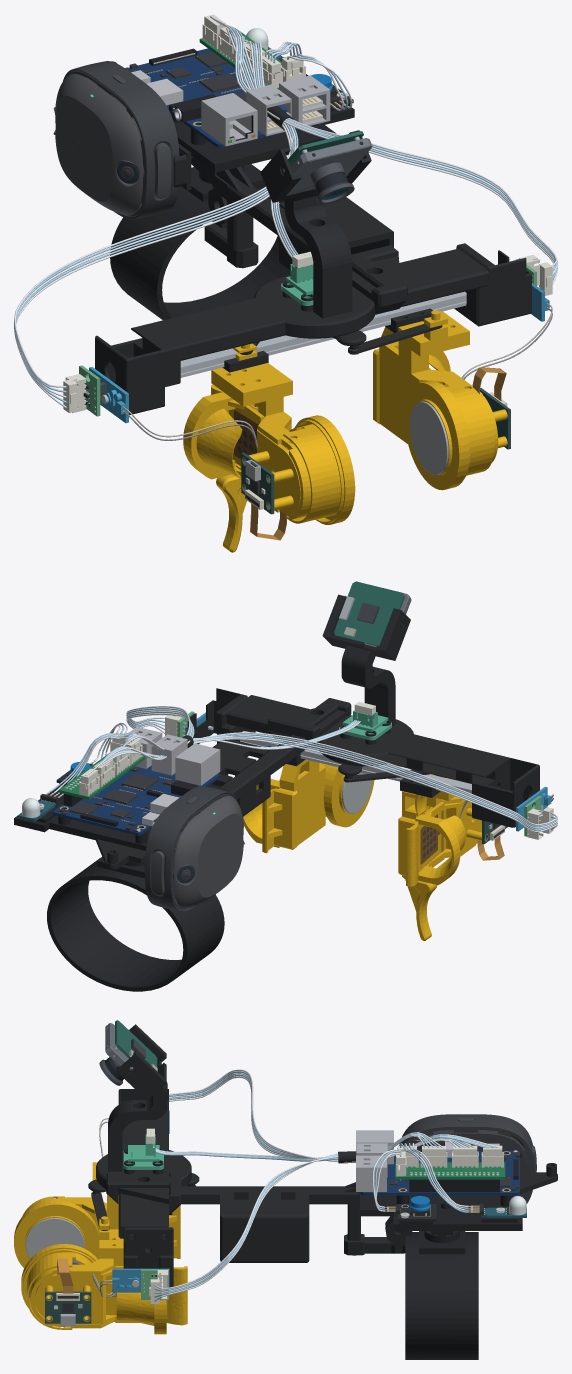
File: aetherock-parallel.glb
The picture shows the model from 3 angles, top to bottom: view 1: azimuth 30°, elevation 25°; view 2: azimuth 150°, elevation 25°; view 3: azimuth 270°, elevation 25°; orthographic projection. The views are drawn at different scales.
Parts seen in each view (by area): view 1: Parallel Gripper Frame, VIVE Ultimate Tracker, Orange Pi 4 Pro Wristward Ports, Forearm Support, Upper Arm Strap, Hikrobot Camera Mount, Right Tactile Back Cover, Right Jaw and Trigger, Left Jaw and Trigger, Right Force ADC XH2.54 Ribbon Cable, Parallel Gripper Side Cover, Hikrobot MV CB060 Camera (+21 smaller); view 2: Upper Arm Strap, Parallel Gripper Frame, VIVE Ultimate Tracker, Orange Pi 4 Pro Wristward Ports, Forearm Support, Right Tactile Back Cover, Hikrobot Camera Mount, Right Force ADC XH2.54 Ribbon Cable, Hikrobot MV CB060 Camera, Left Tactile Back Cover, Left Jaw and Trigger, Controller Tray (+13 smaller); view 3: Forearm Support, Upper Arm Strap, Orange Pi 4 Pro Wristward Ports, Left Tactile Back Cover, Parallel Gripper Frame, Hikrobot Camera Mount, Controller Tray, VIVE Ultimate Tracker, Orange Pi 4 Pro Custom GPIO PCB, Left Force ADC XH2.54 Ribbon Cable, Parallel Gripper Side Cover, Left Jaw and Trigger (+21 smaller).
Part boxes in pixels (<box>): Parallel Gripper Frame: <box>95,248,488,414</box>; VIVE Ultimate Tracker: <box>53,61,179,219</box>; Orange Pi 4 Pro Wristward Ports: <box>125,48,330,147</box>; Forearm Support: <box>111,61,407,314</box>; Upper Arm Strap: <box>110,167,297,320</box>; Hikrobot Camera Mount: <box>260,130,371,314</box>; Right Tactile Back Cover: <box>183,384,300,514</box>; Right Jaw and Trigger: <box>211,343,310,552</box>; Left Jaw and Trigger: <box>379,310,498,462</box>; Right Force ADC XH2.54 Ribbon Cable: <box>14,27,296,413</box>; Parallel Gripper Side Cover: <box>454,243,531,326</box>; Hikrobot MV CB060 Camera: <box>288,131,372,204</box>; Upper Arm Strap: <box>47,857,224,991</box>; Parallel Gripper Frame: <box>226,695,539,827</box>; VIVE Ultimate Tracker: <box>144,786,244,911</box>; Orange Pi 4 Pro Wristward Ports: <box>53,727,220,835</box>; Forearm Support: <box>96,698,351,869</box>; Right Tactile Back Cover: <box>398,800,481,886</box>; Hikrobot Camera Mount: <box>322,594,410,722</box>; Right Force ADC XH2.54 Ribbon Cable: <box>93,732,557,833</box>; Hikrobot MV CB060 Camera: <box>334,581,411,646</box>; Left Tactile Back Cover: <box>243,779,297,853</box>; Left Jaw and Trigger: <box>279,759,325,845</box>; Controller Tray: <box>14,783,224,850</box>; Forearm Support: <box>106,1163,557,1262</box>; Upper Arm Strap: <box>405,1232,478,1359</box>; Orange Pi 4 Pro Wristward Ports: <box>356,1130,519,1195</box>; Left Tactile Back Cover: <box>35,1266,187,1334</box>; Parallel Gripper Frame: <box>96,1089,191,1238</box>; Hikrobot Camera Mount: <box>108,1024,167,1168</box>; Controller Tray: <box>360,1192,522,1230</box>; VIVE Ultimate Tracker: <box>397,1114,536,1203</box>; Orange Pi 4 Pro Custom GPIO PCB: <box>395,1151,505,1180</box>; Left Force ADC XH2.54 Ribbon Cable: <box>149,1132,445,1303</box>; Parallel Gripper Side Cover: <box>123,1227,173,1287</box>; Left Jaw and Trigger: <box>30,1216,123,1328</box>.
Bounding box in the file's own units: 259 × 197 × 304.
